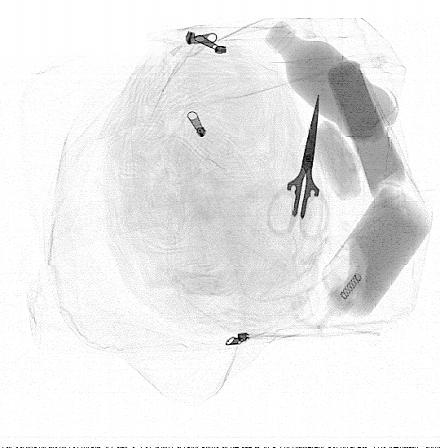Scissors: (263, 91, 331, 243)
